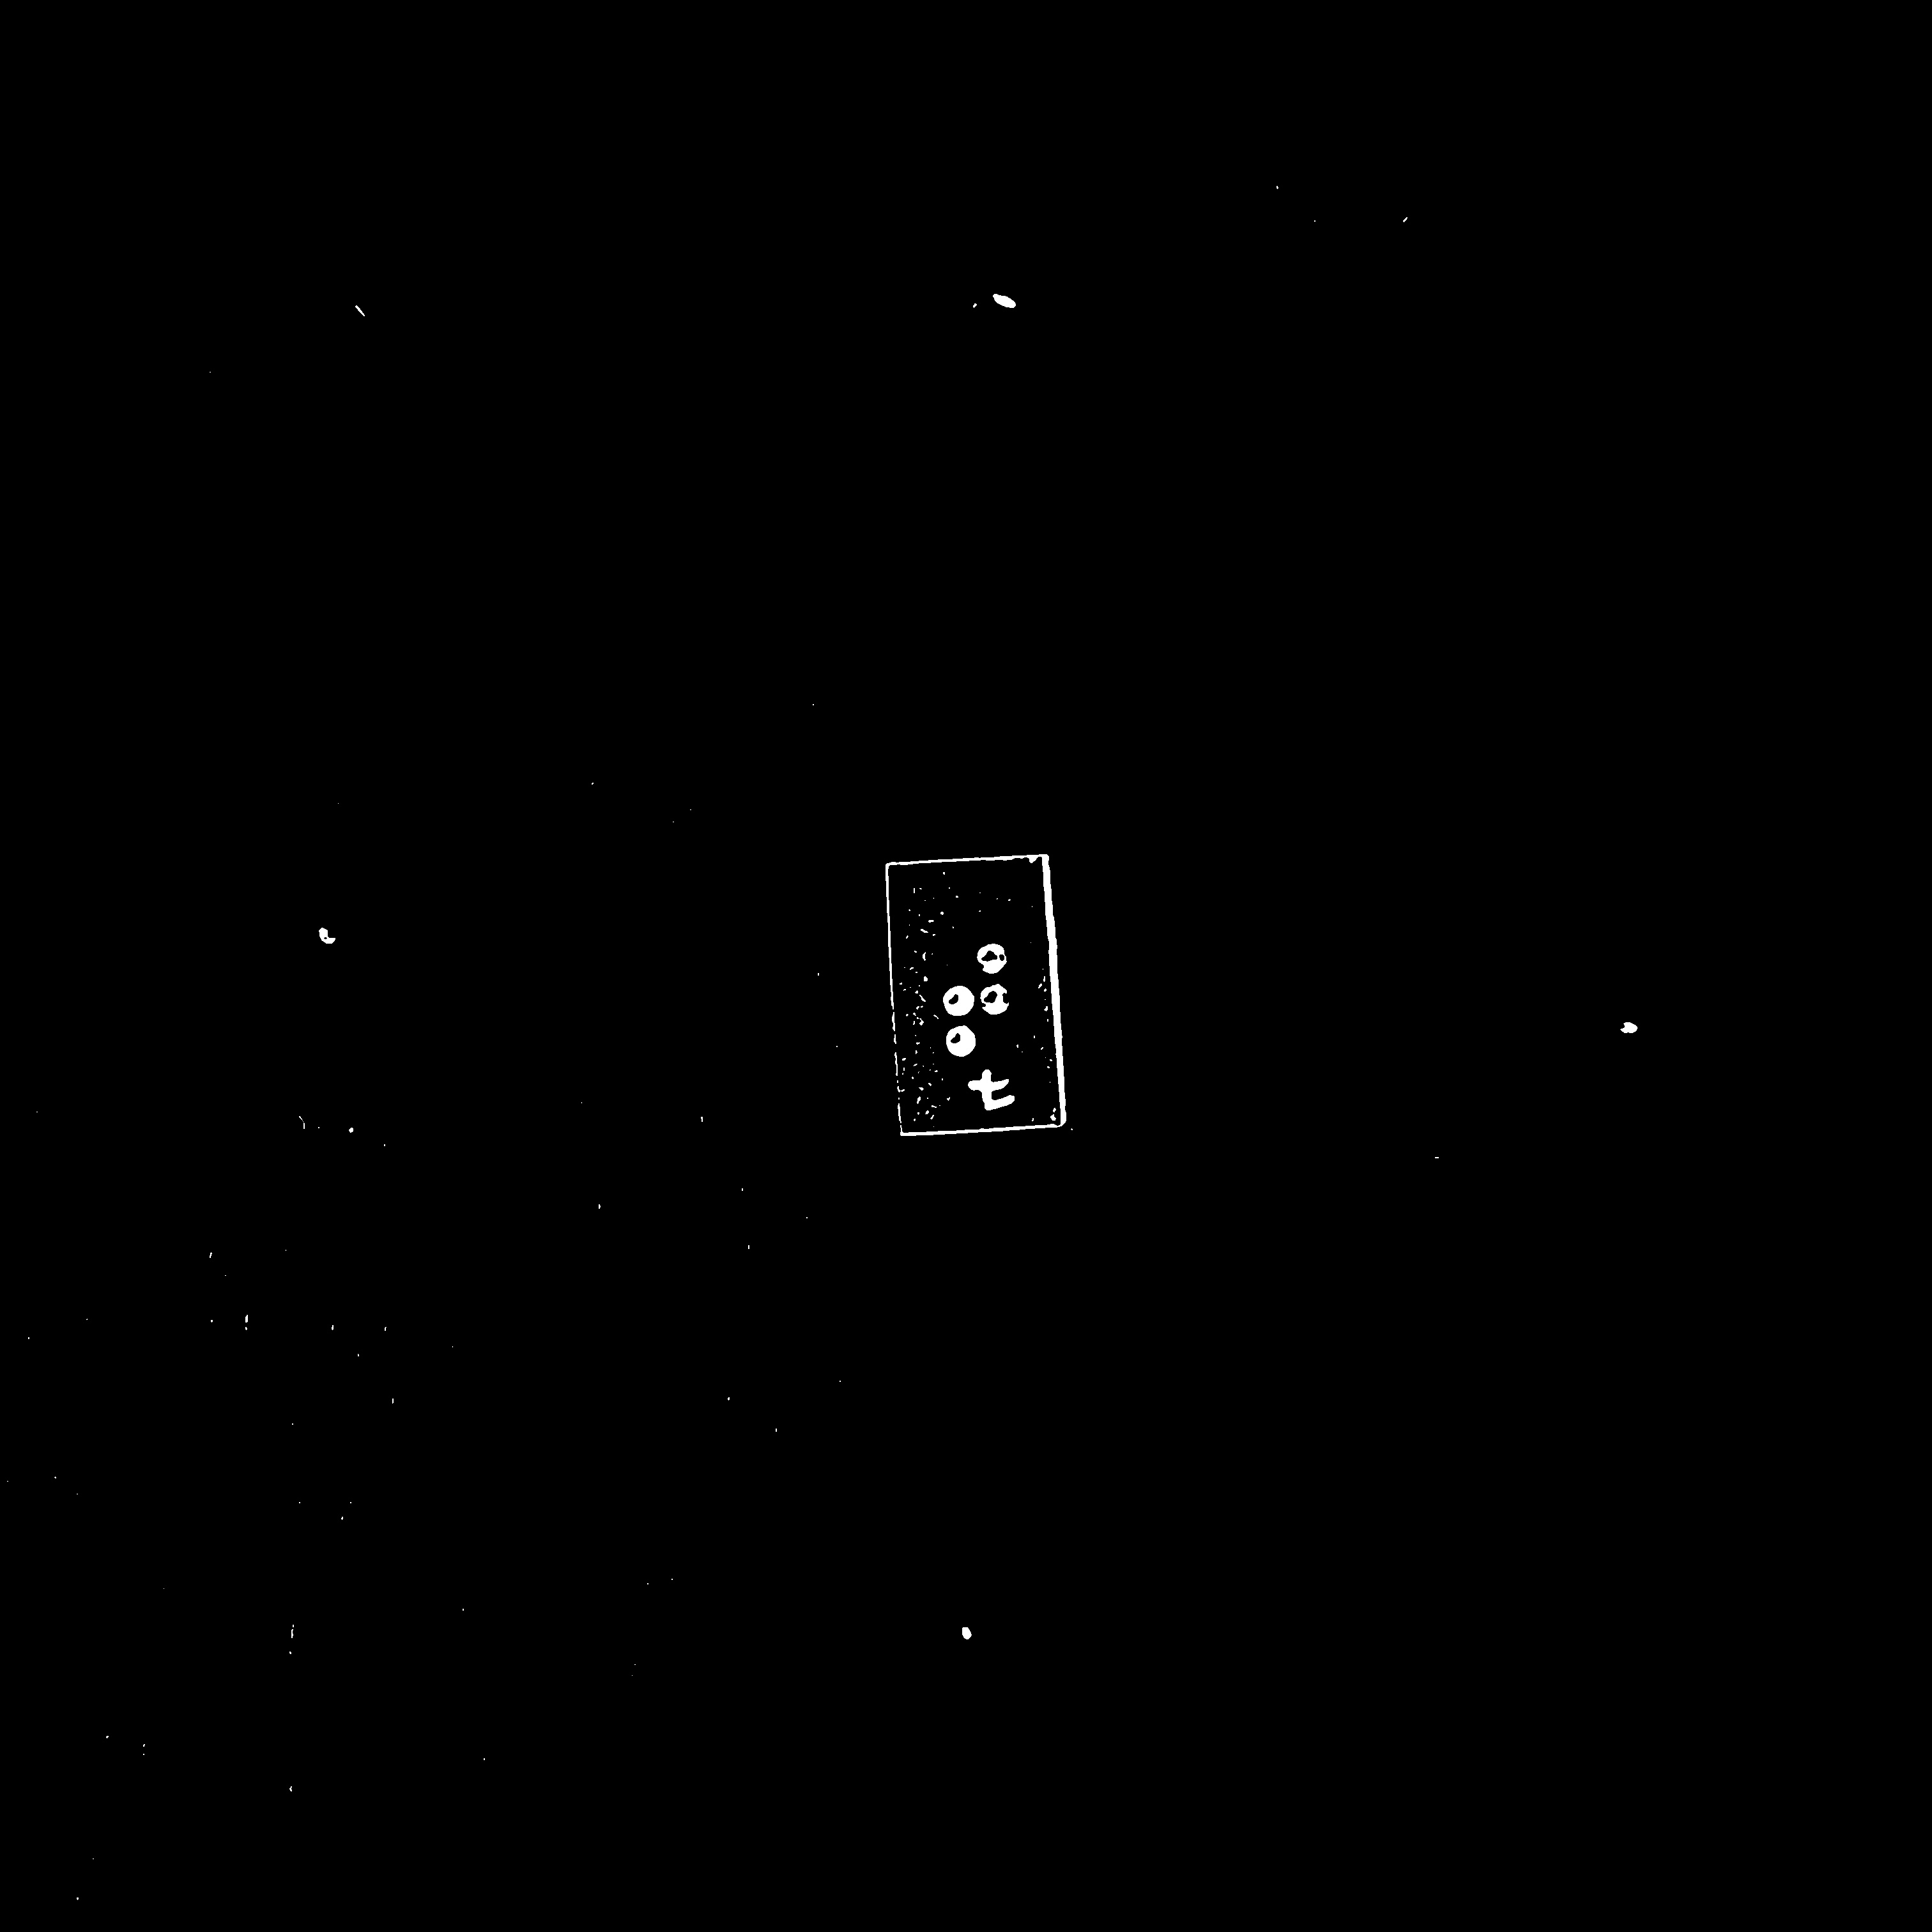t: (925, 930, 1037, 1065)
